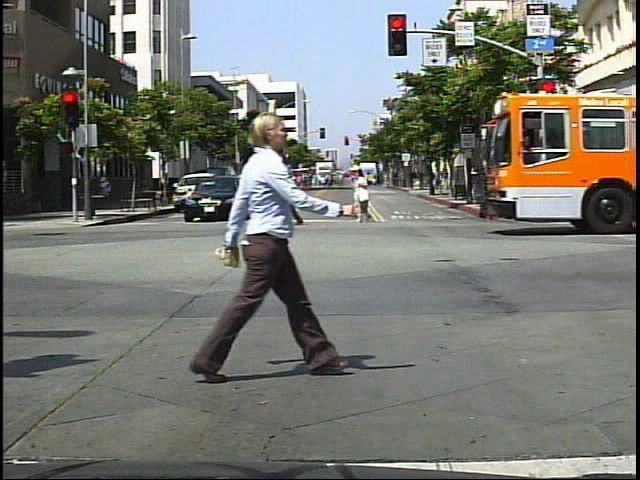person: (184, 90, 344, 390), (350, 165, 379, 227), (551, 160, 574, 211), (287, 167, 306, 194)
